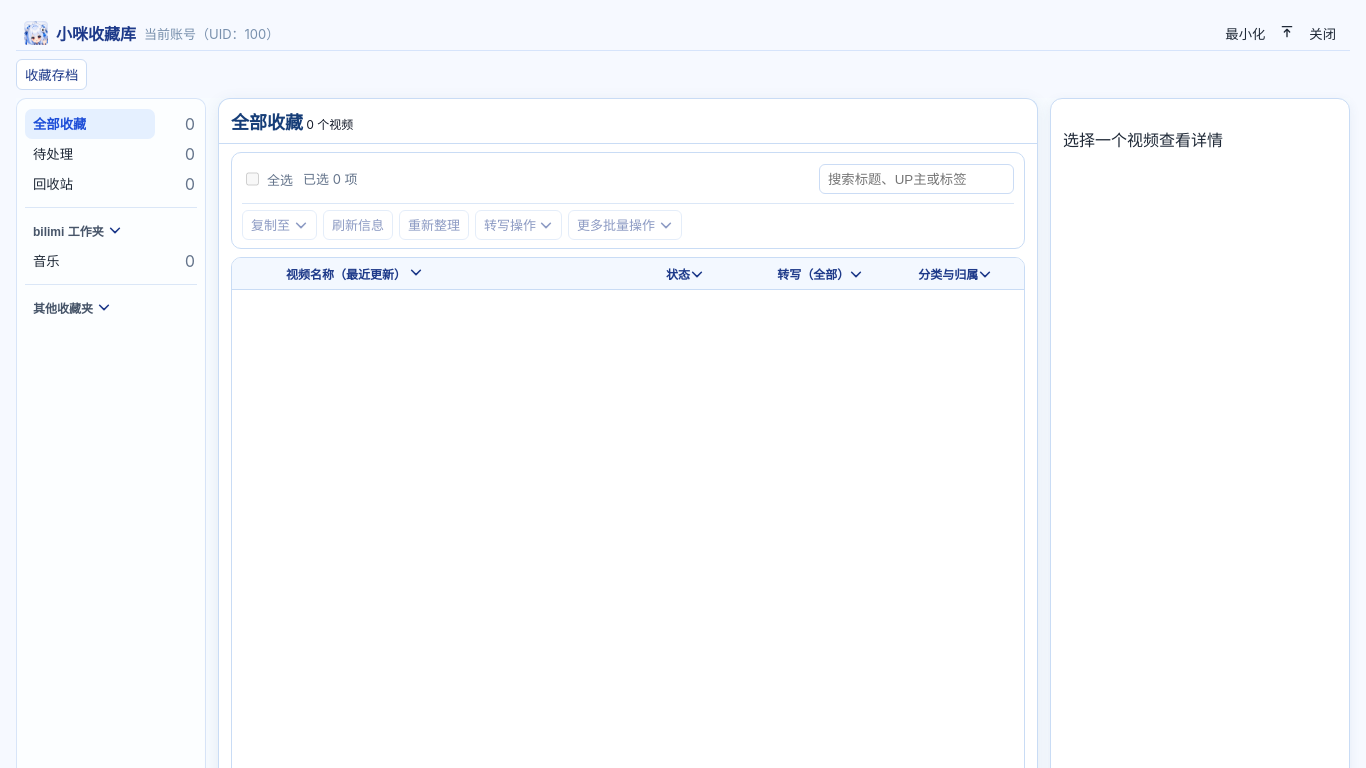
Test: FavoriteLibraryApp › uses the main-process backup state when a user released a rule with an old physical shard
Click the button "音乐".
click(90, 261)  # box [25, 246, 155, 276]
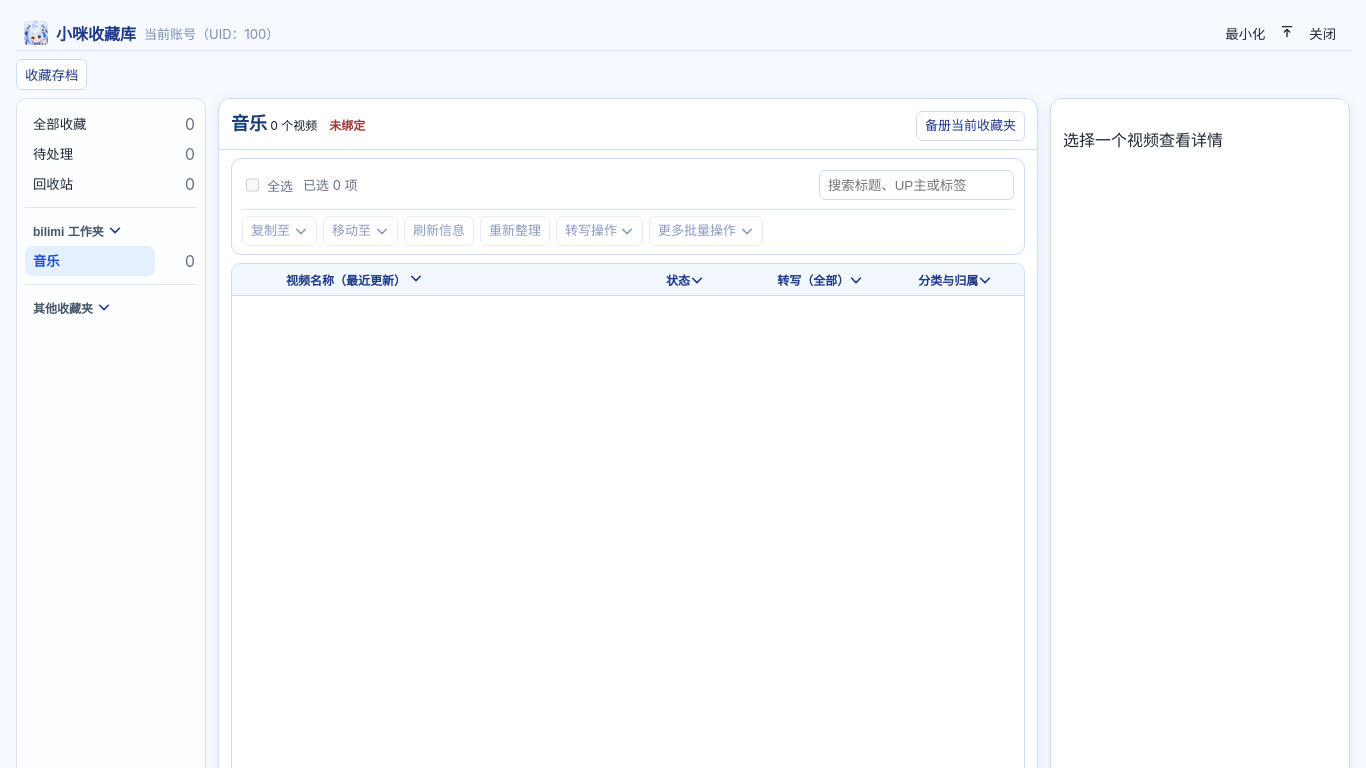
Check: the text "未绑定" is shown, box [329, 116, 365, 133]
